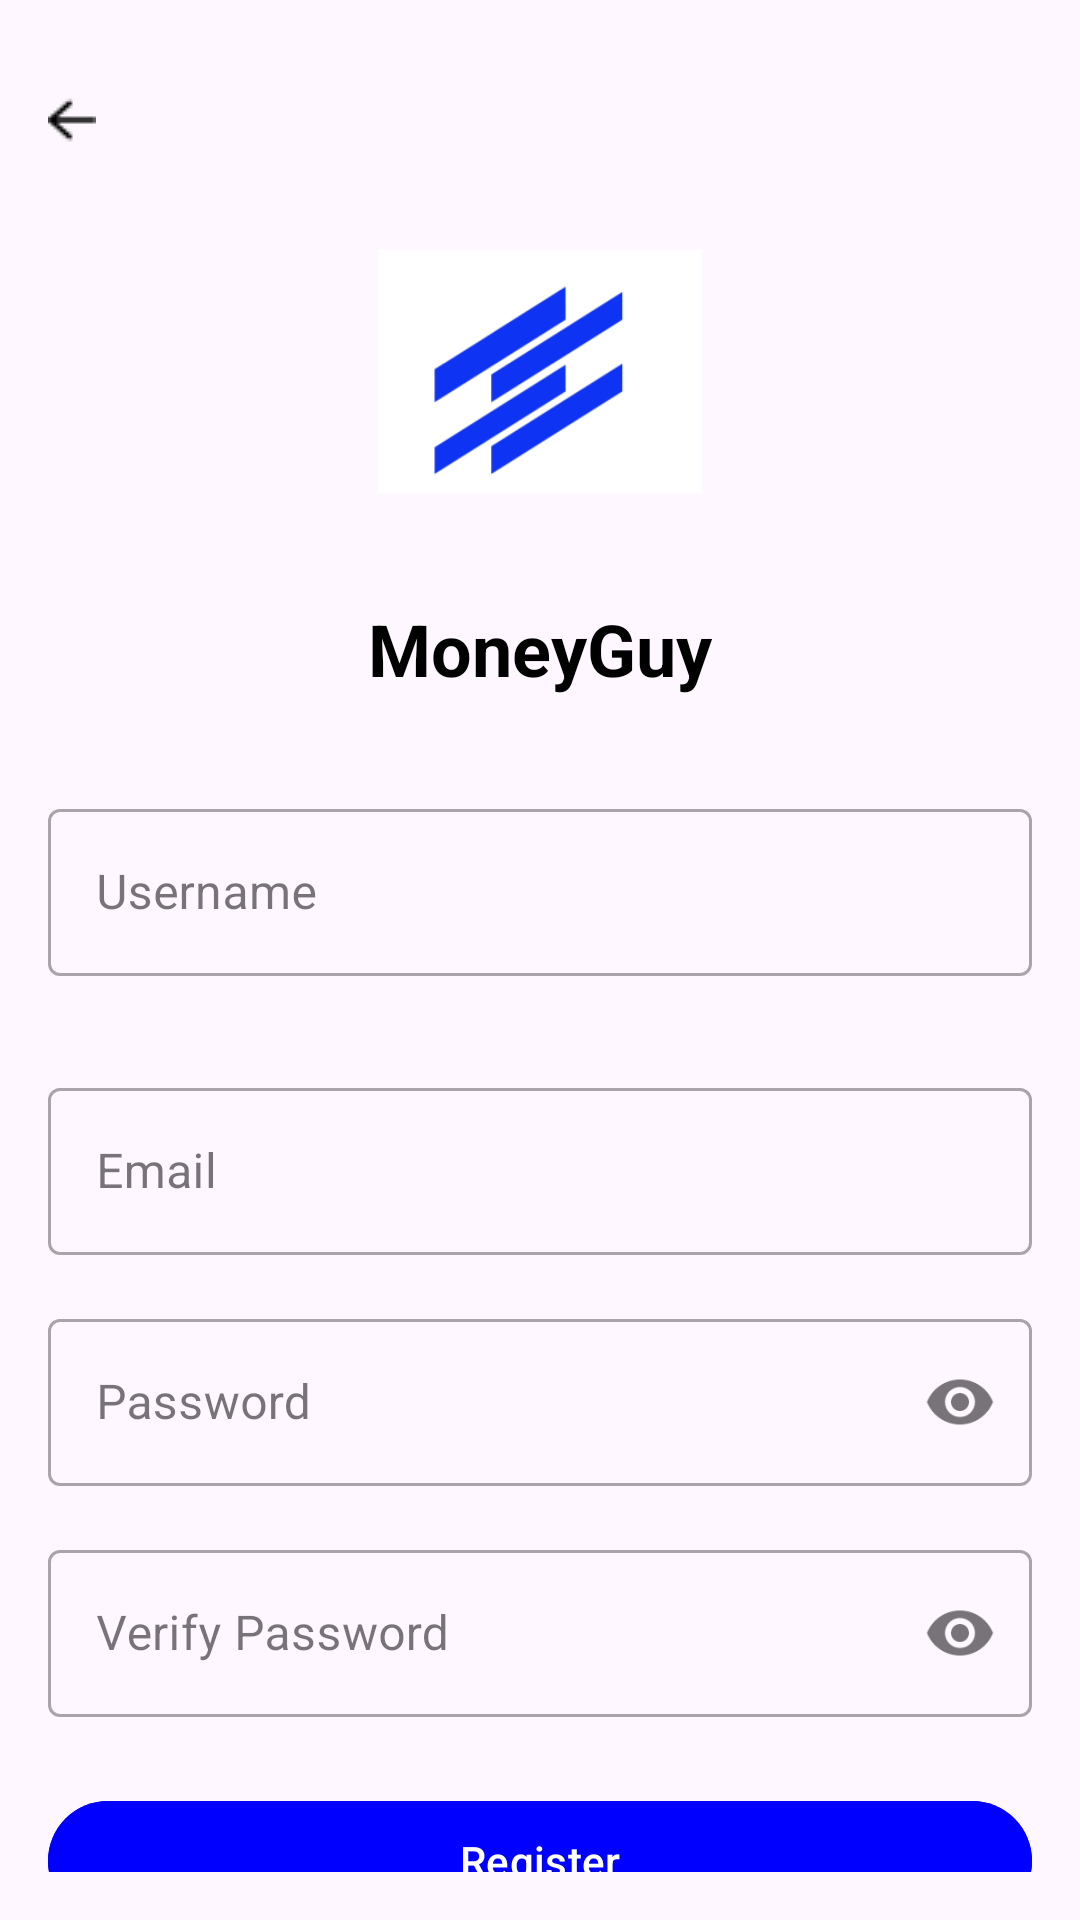

Named icons in this screenshot (1080x1920) and their centers, (x=x, y=y):
Back: (x=72, y=120)
